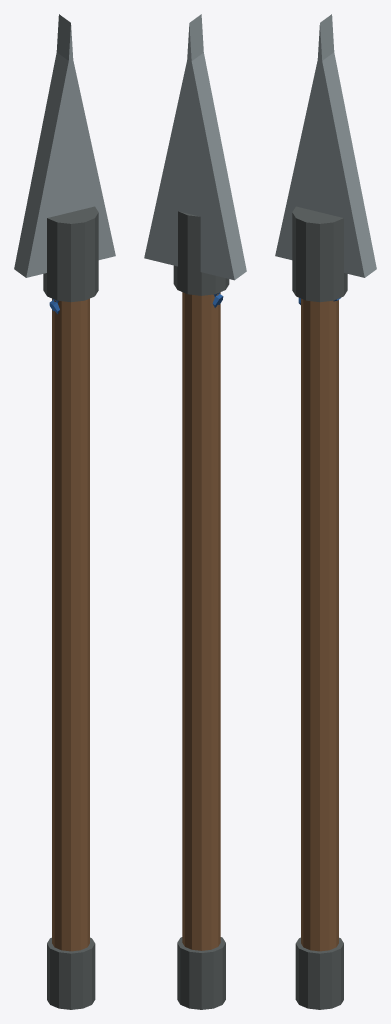
The model's file is wolfguard_reach_spear.glb.
3 renders of one model, left to right at view 1: azimuth 30°, elevation 25°; view 2: azimuth 150°, elevation 25°; view 3: azimuth 330°, elevation 25°, orthographic.
Parts seen in each view (by area): view 1: Ashwood haft, Leaf spearhead, Reinforced socket, Iron heel cap; view 2: Ashwood haft, Leaf spearhead, Iron heel cap, Reinforced socket; view 3: Ashwood haft, Leaf spearhead, Reinforced socket, Iron heel cap.
Part boxes in pixels (x1=…): Ashwood haft: x1=52, y1=298, x2=89, y2=951; Leaf spearhead: x1=14, y1=14, x2=115, y2=277; Reinforced socket: x1=43, y1=206, x2=98, y2=302; Iron heel cap: x1=47, y1=937, x2=95, y2=1009; Ashwood haft: x1=182, y1=292, x2=220, y2=950; Leaf spearhead: x1=144, y1=14, x2=246, y2=280; Iron heel cap: x1=177, y1=937, x2=225, y2=1009; Reinforced socket: x1=173, y1=211, x2=229, y2=295; Ashwood haft: x1=301, y1=298, x2=338, y2=951; Leaf spearhead: x1=275, y1=14, x2=376, y2=277; Reinforced socket: x1=292, y1=206, x2=347, y2=302; Iron heel cap: x1=295, y1=937, x2=343, y2=1009.
Size of the model in its own units: 0.3 by 3.12 by 0.16.
